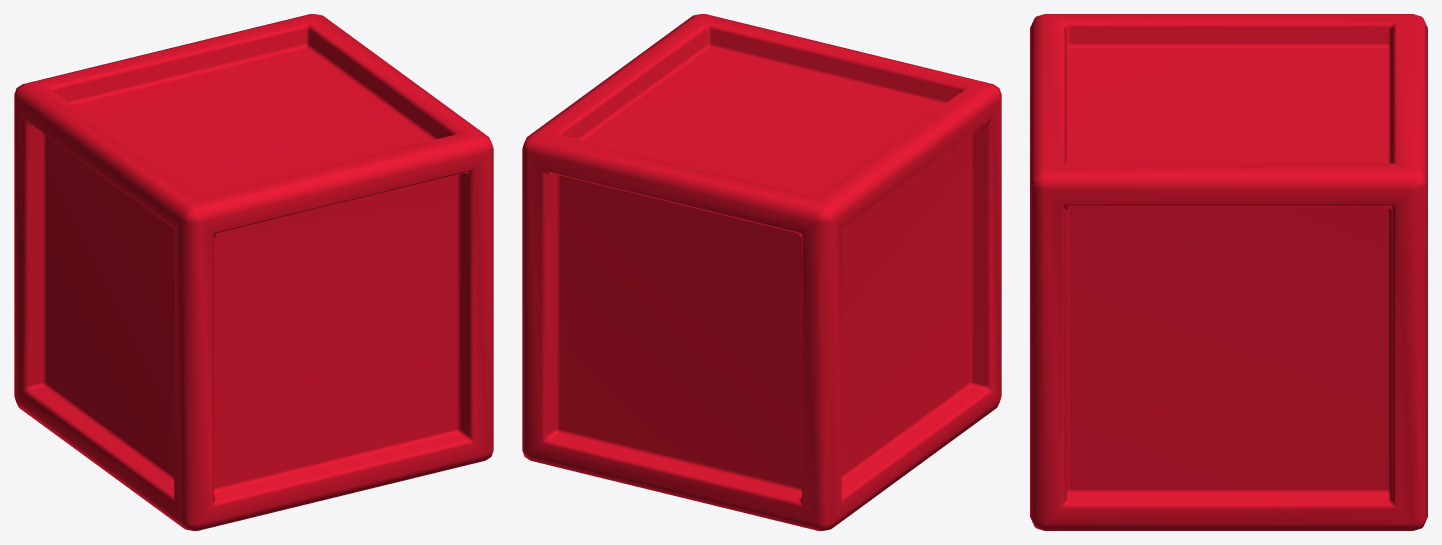
Rendered from BlocksABC (2).fbx.
The picture shows the model from 3 angles, left to right: view 1: azimuth 30°, elevation 25°; view 2: azimuth 150°, elevation 25°; view 3: azimuth 270°, elevation 25°; orthographic projection. The views are drawn at different scales.
Visible parts, largest first — view 1: Cube.001; view 2: Cube.001; view 3: Cube.001.
Part boxes in pixels (x1,y1,x2,y2): Cube.001: [14, 14, 493, 530]; Cube.001: [522, 14, 1001, 530]; Cube.001: [1030, 14, 1427, 530].
Bounding box in the file's own units: 200 × 200 × 200.
